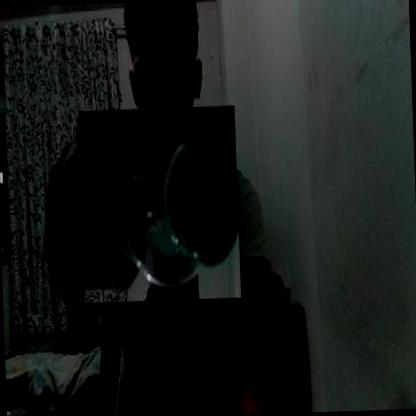plastic_bottles: (79, 106, 242, 302)
